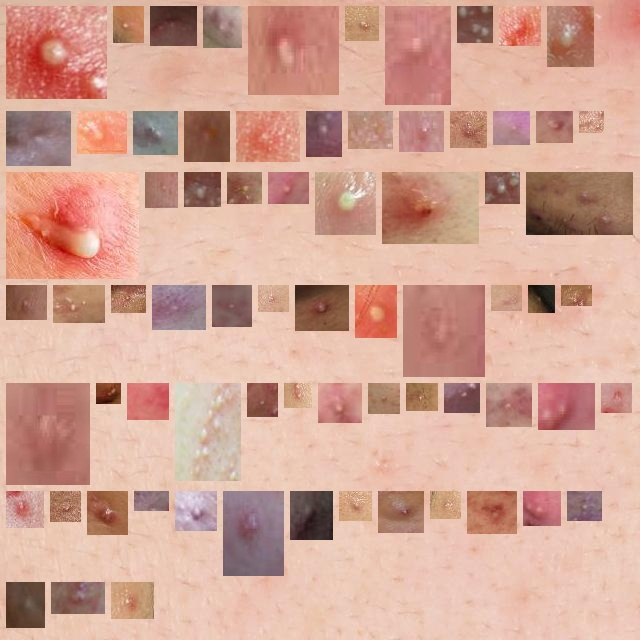pustule: (14, 180, 131, 271), (14, 14, 99, 91), (14, 391, 82, 477), (256, 14, 331, 87), (411, 293, 477, 369), (390, 180, 471, 236), (534, 180, 625, 227), (393, 14, 443, 97), (183, 391, 233, 473), (231, 499, 276, 568), (323, 180, 368, 227), (14, 119, 63, 158), (244, 119, 292, 154), (555, 14, 586, 59), (546, 391, 587, 422), (303, 293, 341, 323), (160, 293, 198, 322), (192, 119, 222, 154), (363, 293, 389, 330), (85, 119, 119, 146), (475, 499, 509, 526), (298, 499, 325, 532), (494, 391, 524, 419), (141, 119, 170, 147), (407, 116, 436, 144), (61, 293, 97, 315), (386, 499, 416, 525), (158, 14, 189, 38), (95, 499, 120, 527), (14, 590, 37, 620), (326, 391, 354, 415), (356, 119, 385, 141), (507, 14, 533, 38), (220, 293, 244, 319), (183, 499, 209, 523), (59, 590, 97, 606), (314, 119, 334, 149), (211, 14, 234, 40), (119, 590, 146, 611), (135, 391, 161, 412), (14, 293, 39, 312), (14, 499, 36, 520), (458, 119, 479, 140), (465, 14, 485, 35), (531, 499, 553, 518), (276, 180, 301, 196), (192, 180, 213, 199), (501, 119, 522, 137), (353, 14, 371, 33), (153, 180, 170, 200), (544, 119, 565, 135), (121, 14, 136, 35), (235, 180, 254, 196), (493, 180, 512, 196), (452, 391, 472, 405), (255, 391, 270, 409), (575, 499, 594, 513), (376, 391, 392, 406), (347, 499, 364, 513), (119, 293, 138, 305), (58, 499, 73, 514), (499, 293, 514, 307), (609, 391, 624, 405), (142, 499, 161, 510), (414, 391, 430, 403), (438, 499, 453, 511), (266, 293, 281, 304), (536, 293, 547, 305), (292, 391, 304, 400), (104, 391, 113, 399), (587, 119, 596, 125)
